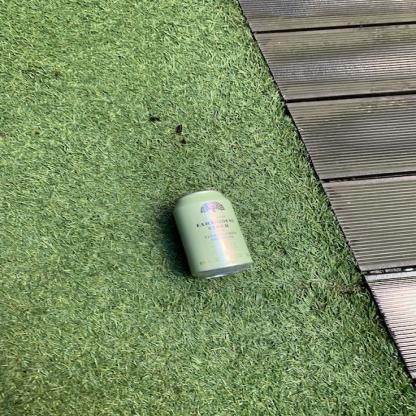trash: (174, 190, 251, 277)
